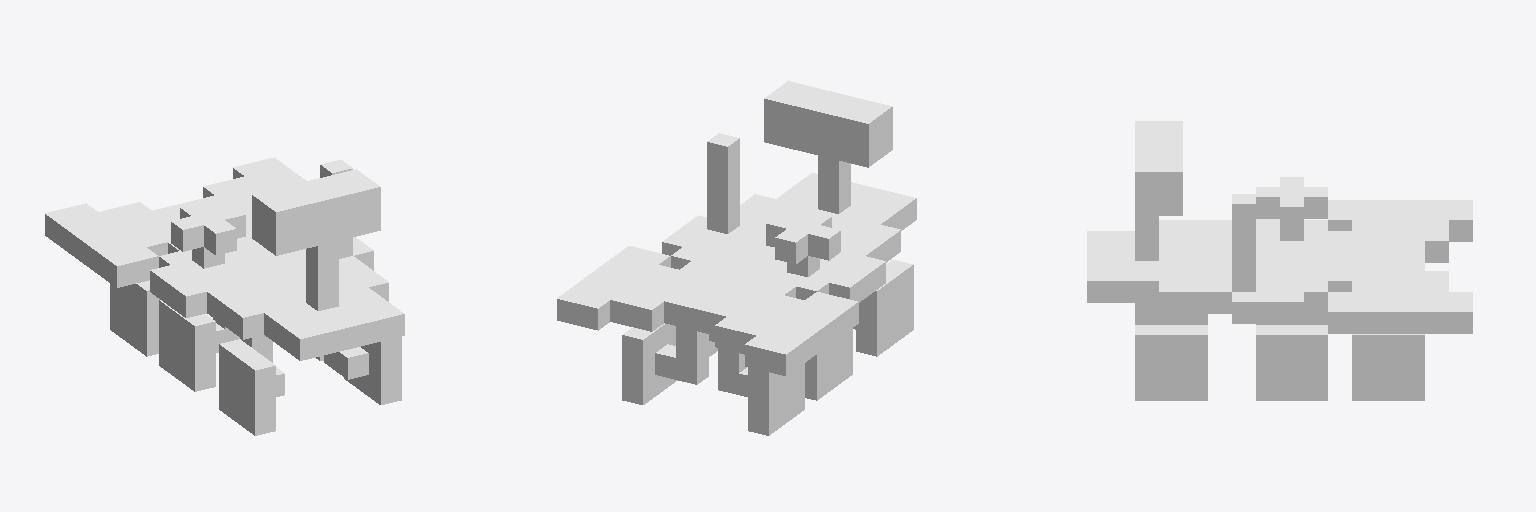
File: rover_small.obj
The picture shows the model from 3 angles: view 1: azimuth 30°, elevation 25°; view 2: azimuth 150°, elevation 25°; view 3: azimuth 270°, elevation 25°; orthographic projection.
Parts seen in each view (by area): view 1: object 1; view 2: object 1; view 3: object 1.
Part boxes in pixels (x1,y1,x2,y2): object 1: (45,157,404,435); object 1: (557,81,916,435); object 1: (1087,121,1472,400).
Bounding box in the file's own units: 1.1 × 1 × 1.6.